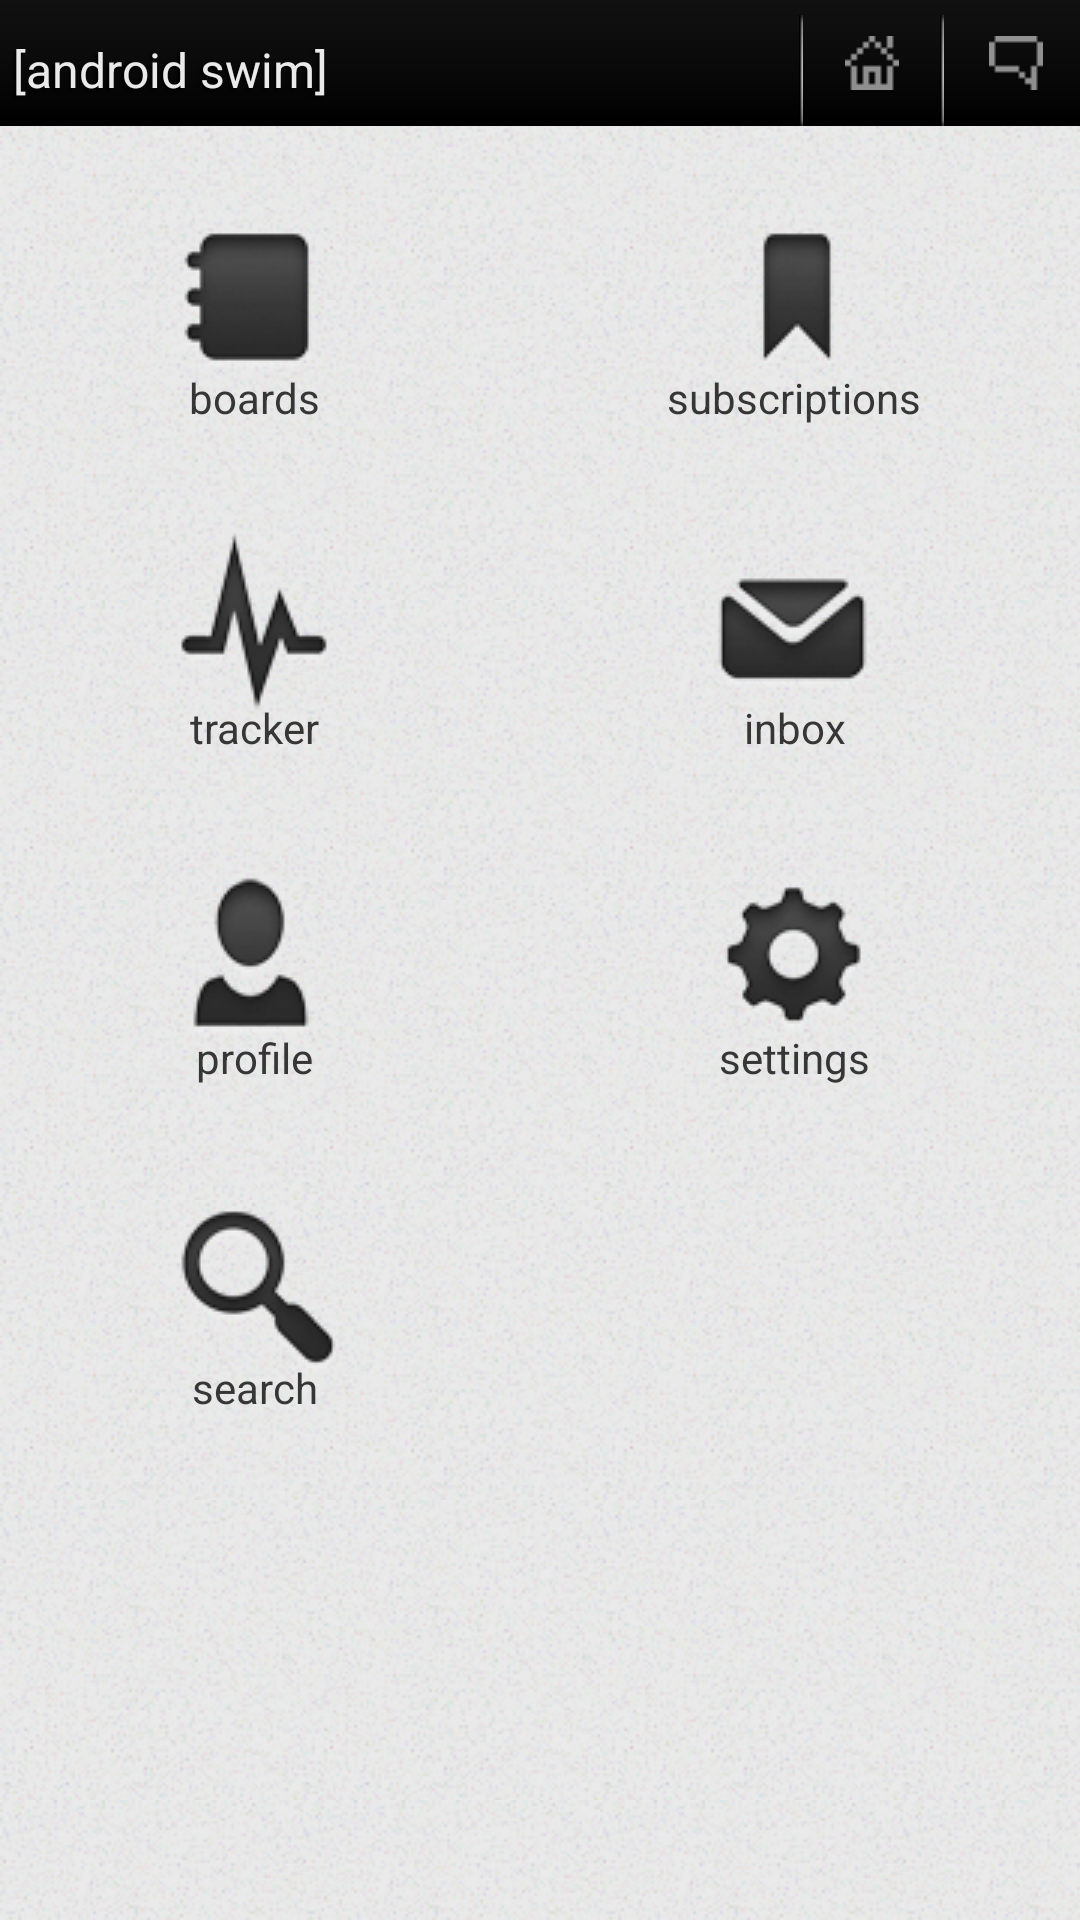

Icon bounding boxes for this 1080w x 1920h phone screenshot, format bbox=[x1, y1, x2, y2]:
homepixel: bbox=[845, 36, 899, 90]
